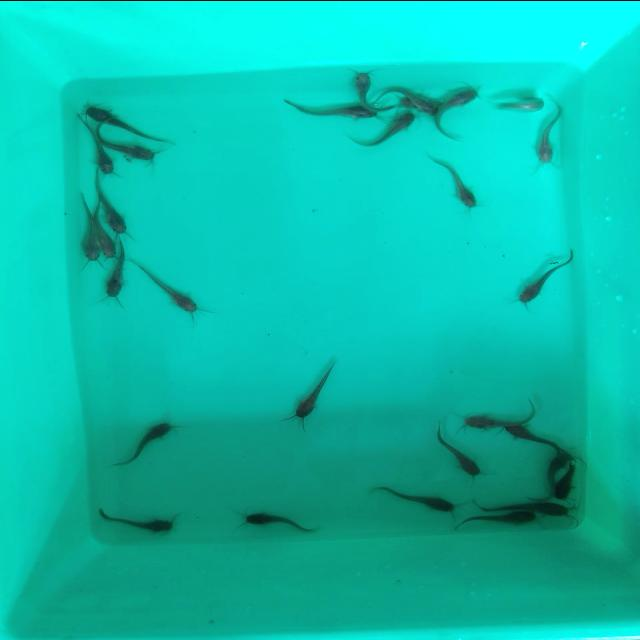lele: (84, 100, 175, 140), (515, 250, 576, 305), (142, 269, 202, 315), (456, 394, 534, 428), (282, 99, 384, 125), (440, 82, 484, 136), (437, 159, 482, 209), (500, 422, 577, 450), (433, 432, 480, 476), (126, 420, 174, 463), (388, 485, 456, 515), (292, 367, 331, 418), (535, 98, 567, 160), (100, 176, 132, 232), (102, 510, 178, 533), (115, 140, 163, 176), (372, 112, 417, 150), (243, 509, 314, 531), (458, 512, 534, 530), (488, 501, 578, 516), (560, 462, 590, 502), (354, 67, 384, 107), (104, 262, 130, 306), (382, 79, 420, 108), (496, 91, 548, 112), (94, 138, 120, 174), (541, 452, 559, 500), (79, 226, 98, 268), (416, 85, 439, 116), (100, 228, 122, 260)
